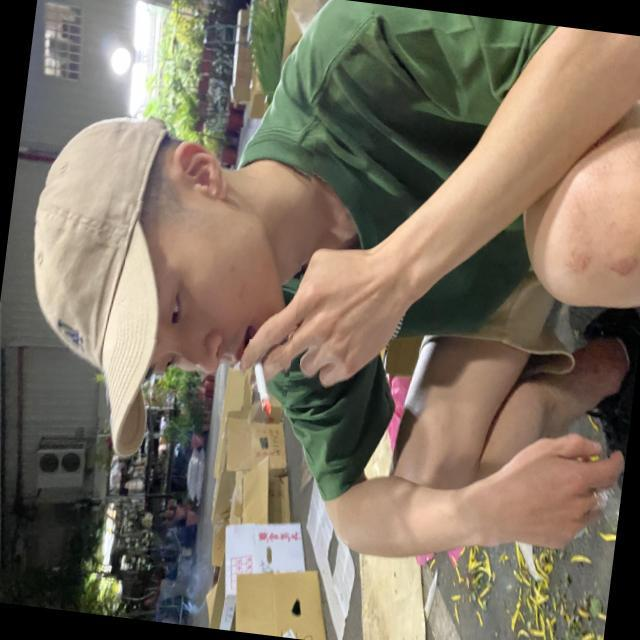cigarette: (239, 339, 289, 428)
